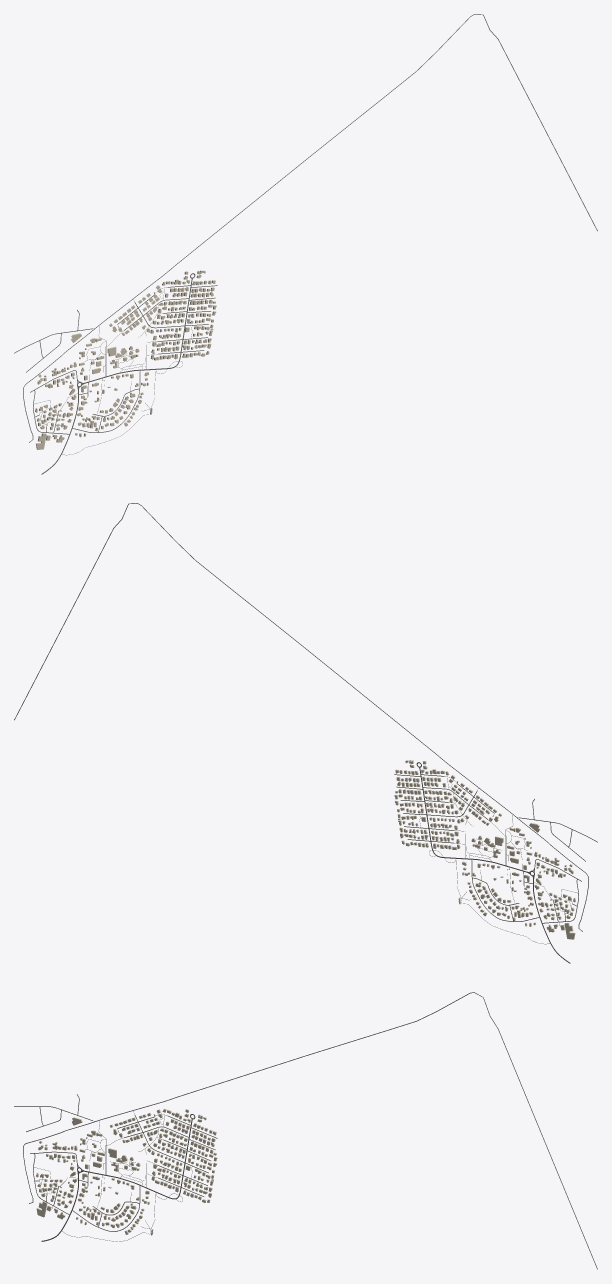
Rendered from historic-palestine-05_22_3470_3162.glb.
3 renders of one model, top to bottom at view 1: azimuth 30°, elevation 25°; view 2: azimuth 150°, elevation 25°; view 3: azimuth 330°, elevation 25°, orthographic.
Parts seen in each view (by area): view 1: Road .001; view 2: Road .001; view 3: Road .001.
Boxes of the visible parts, box(x1,y1,x2,y2) form: Road .001: box(23, 14, 597, 442); Road .001: box(14, 503, 588, 931); Road .001: box(23, 992, 597, 1269).
Bounding box in the file's own units: 3005 × 1747 × 8.7.
